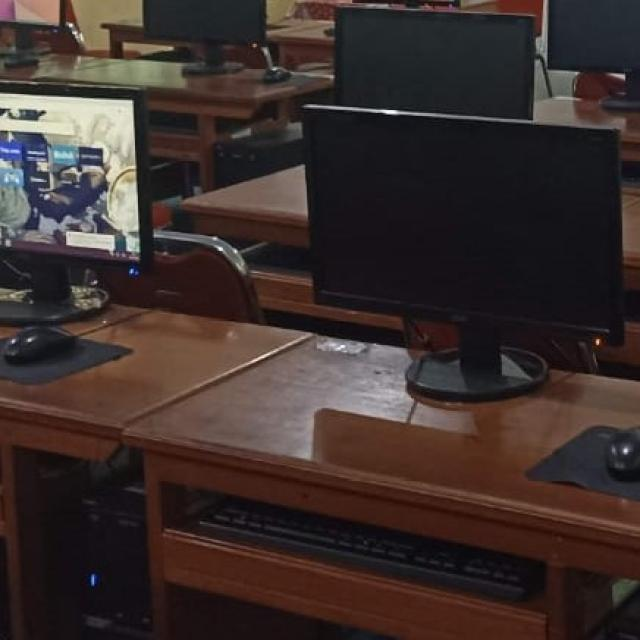offscreen: (306, 107, 622, 343), (338, 6, 535, 119), (549, 0, 640, 72), (144, 0, 266, 43)
onscreen: (0, 84, 146, 259)
